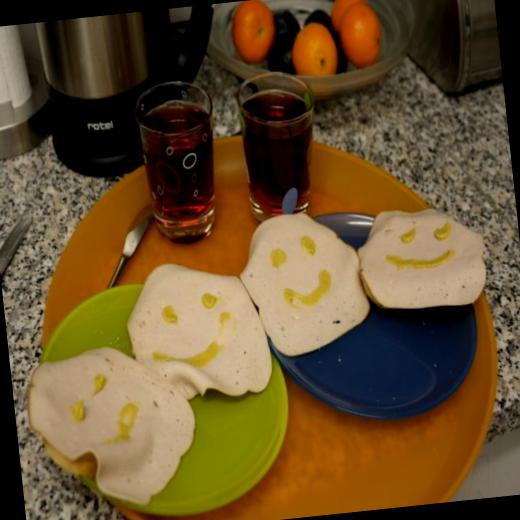Grape: (294, 12, 345, 76), (339, 2, 384, 69), (232, 0, 278, 58), (326, 0, 367, 31)
